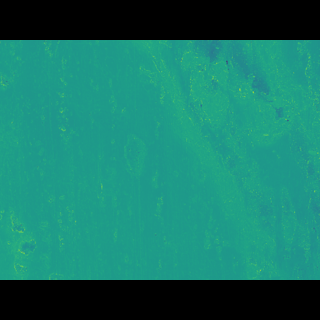Loch: (132, 71, 320, 250)
